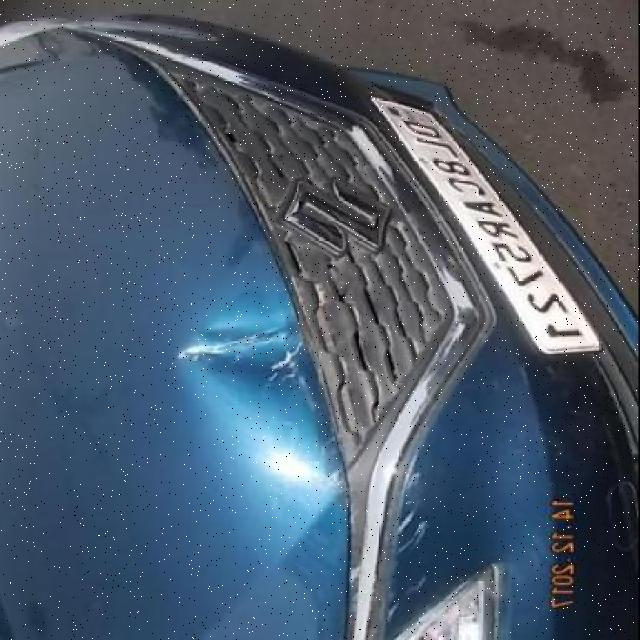damage: (182, 319, 324, 411), (395, 462, 430, 559), (394, 572, 430, 615)
